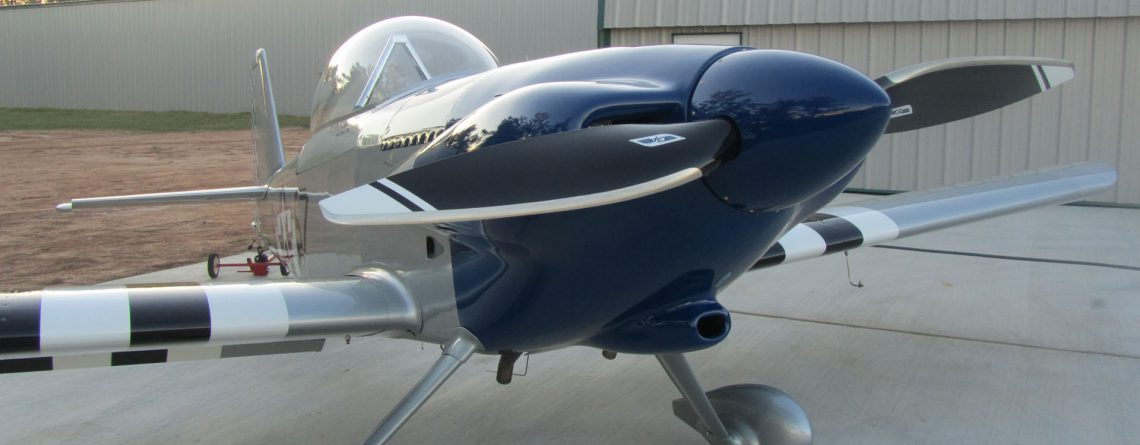Propeller: (315, 53, 1096, 238)
